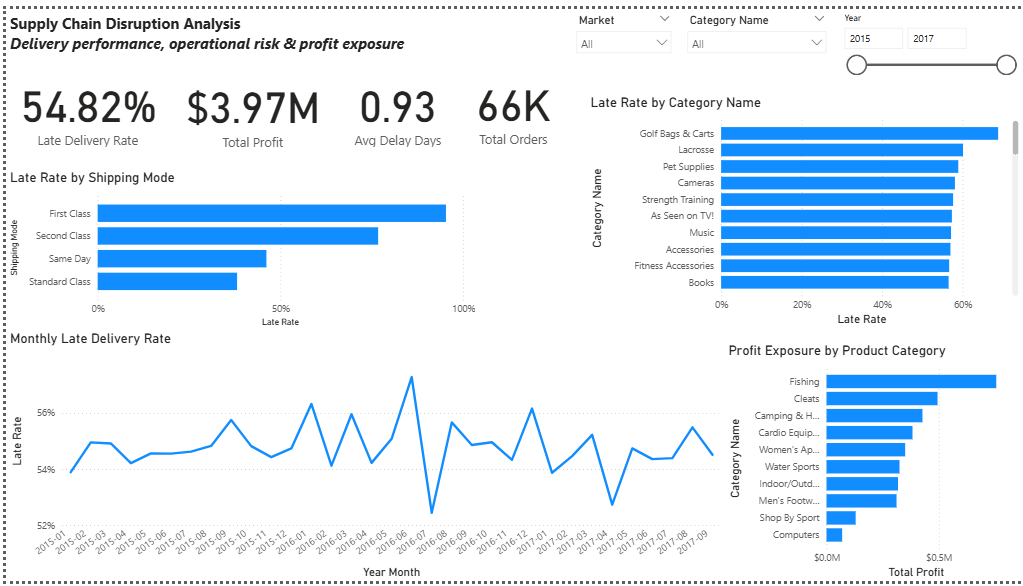

The page's visual inventory and layout, read from the dashboard file:
{"tool":"powerbi","page":{"name":"Page 1","canvas":[1280,720],"ordinal":0},"visuals":[{"type":"card","fields":{"Values":["cleaned.Total Orders"]},"box":[569,72.4,136.2,106.9],"z":0},{"type":"card","fields":{"Values":["cleaned.Late Rate"]},"box":[0,74.1,205.2,105.2],"z":1000},{"type":"card","fields":{"Values":["cleaned.Total Profit"]},"box":[217.2,75.9,186.2,105.2],"z":2000},{"type":"card","fields":{"Values":["cleaned.Avg Delay Days"]},"box":[403.4,74.1,177.6,105.2],"z":3000},{"type":"clusteredBarChart","fields":{"Category":["cleaned.Order Region","cleaned.Category Name"],"Y":["cleaned.Late Rate"]},"box":[731,106.9,548.3,294.8],"z":4000},{"type":"clusteredBarChart","fields":{"Category":["cleaned.Shipping Mode"],"Y":["cleaned.Late Rate"]},"box":[0,201.7,594.8,201.7],"z":5000},{"type":"lineChart","title":"Monthly Late Delivery Rate","fields":{"Category":["DateTable.Year Month"],"Y":["cleaned.Late Rate"]},"box":[0,403.4,903.4,317.2],"z":6000},{"type":"barChart","title":"Profit Exposure by Product Category","fields":{"Category":["cleaned.Category Name"],"Y":["cleaned.Total Profit"]},"box":[903.4,419,375.9,301.7],"z":7000},{"type":"slicer","fields":{"Values":["cleaned.Market"]},"box":[706.9,0,139.7,74.1],"z":8000},{"type":"slicer","fields":{"Values":["cleaned.Category Name"]},"box":[846.6,0,194.8,74.1],"z":9000},{"type":"slicer","fields":{"Values":["DateTable.Year"]},"box":[1041.4,0,237.9,87.9],"z":10000},{"type":"textbox","box":[0,0,569,74.1],"z":11000}]}

Visuals, with their boxes in screenshot pixels (x1, y1, x2, y2), scaled from the page's 1280x720 canvas onto the 1023x586 screenshot:
card - cleaned.Total Orders: (455, 59, 564, 146)
card - cleaned.Late Rate: (0, 60, 164, 146)
card - cleaned.Total Profit: (174, 62, 322, 147)
card - cleaned.Avg Delay Days: (322, 60, 464, 146)
clusteredBarChart - cleaned.Order Region x cleaned.Category Name: (584, 87, 1022, 327)
clusteredBarChart - cleaned.Shipping Mode x cleaned.Late Rate: (0, 164, 475, 328)
"Monthly Late Delivery Rate" lineChart: (0, 328, 722, 585)
"Profit Exposure by Product Category" barChart: (722, 341, 1022, 585)
slicer - cleaned.Market: (565, 0, 677, 60)
slicer - cleaned.Category Name: (677, 0, 832, 60)
slicer - DateTable.Year: (832, 0, 1022, 72)
textbox: (0, 0, 455, 60)
